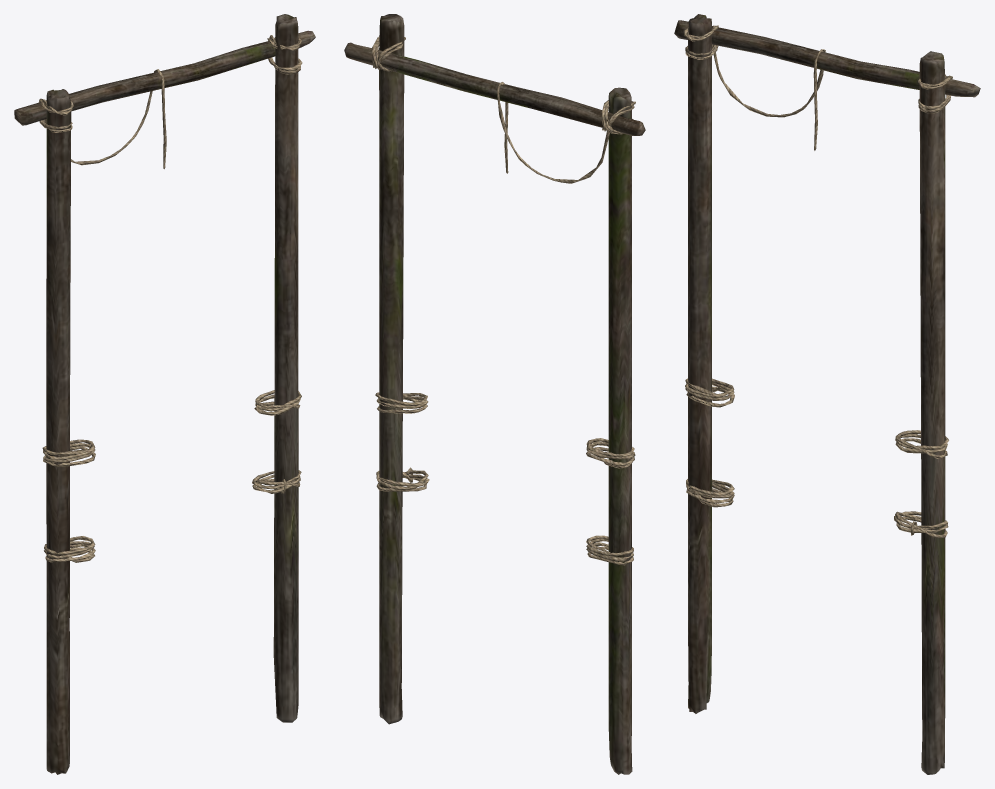
The picture shows the model from 3 angles, left to right: view 1: azimuth 30°, elevation 25°; view 2: azimuth 150°, elevation 25°; view 3: azimuth 330°, elevation 25°; orthographic projection. The views are drawn at different scales.
Parts seen in each view (by area): view 1: modular_wooden_pier_kit__g_lod1; view 2: modular_wooden_pier_kit__g_lod1; view 3: modular_wooden_pier_kit__g_lod1.
Part boxes in pixels (box(x1,y1,x2,y2)): modular_wooden_pier_kit__g_lod1: box(14, 14, 315, 774); modular_wooden_pier_kit__g_lod1: box(344, 14, 645, 774); modular_wooden_pier_kit__g_lod1: box(674, 14, 980, 774).
Bounding box in the file's own units: 3.09 × 7 × 0.4635.
2 materials, 2 textured.
